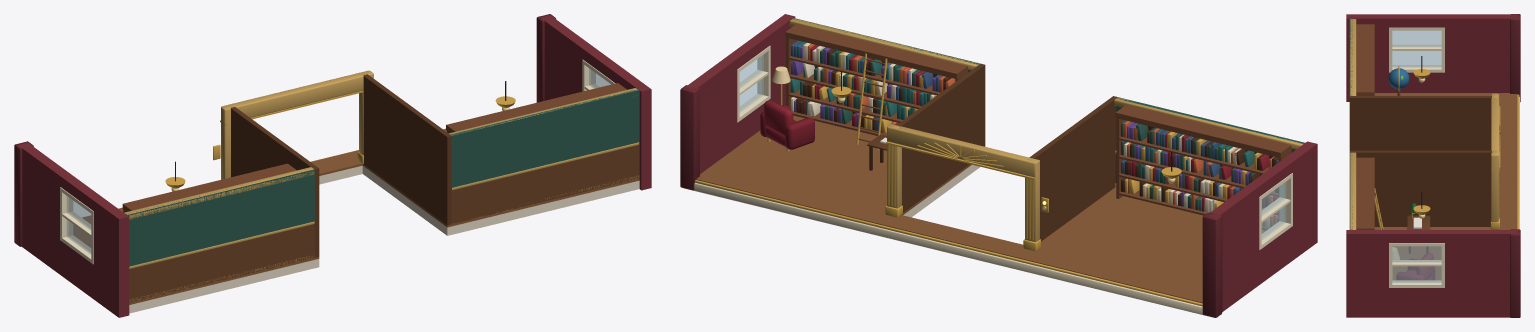
The model's file is Floor_Library.fbx.
3 renders of one model, left to right at view 1: azimuth 30°, elevation 25°; view 2: azimuth 150°, elevation 25°; view 3: azimuth 270°, elevation 25°, orthographic. The views are drawn at different scales.
Parts seen in each view (by area): view 1: Shell; view 2: Shell; view 3: Shell.
Boxes of the visible parts, box(x1,y1,x2,y2) form: Shell: box(14, 14, 651, 317); Shell: box(680, 14, 1317, 317); Shell: box(1346, 14, 1520, 317).
Bounding box in the file's own units: 15.92 × 2.82 × 5.3.
